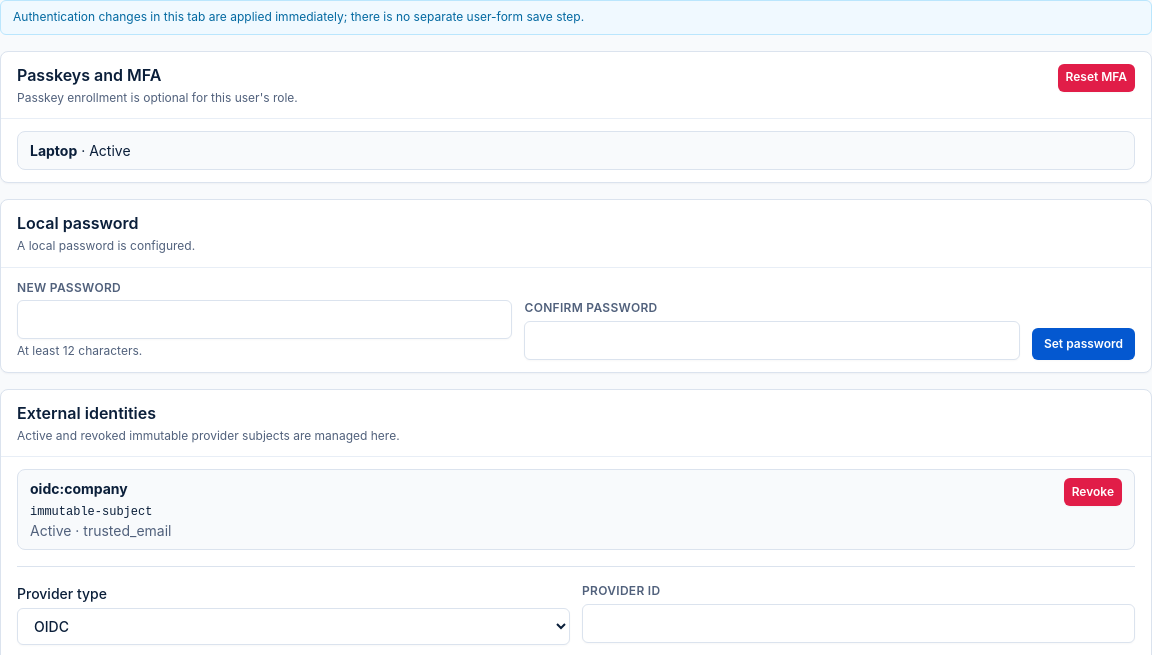
Test: UserAuthenticationPanel › keeps the action pending and retries it once after recent passkey verification
The width and height of the screenshot is (1152, 655).
Step 1. Click the button "Reset MFA" → [1096, 78], box [1058, 64, 1135, 92]
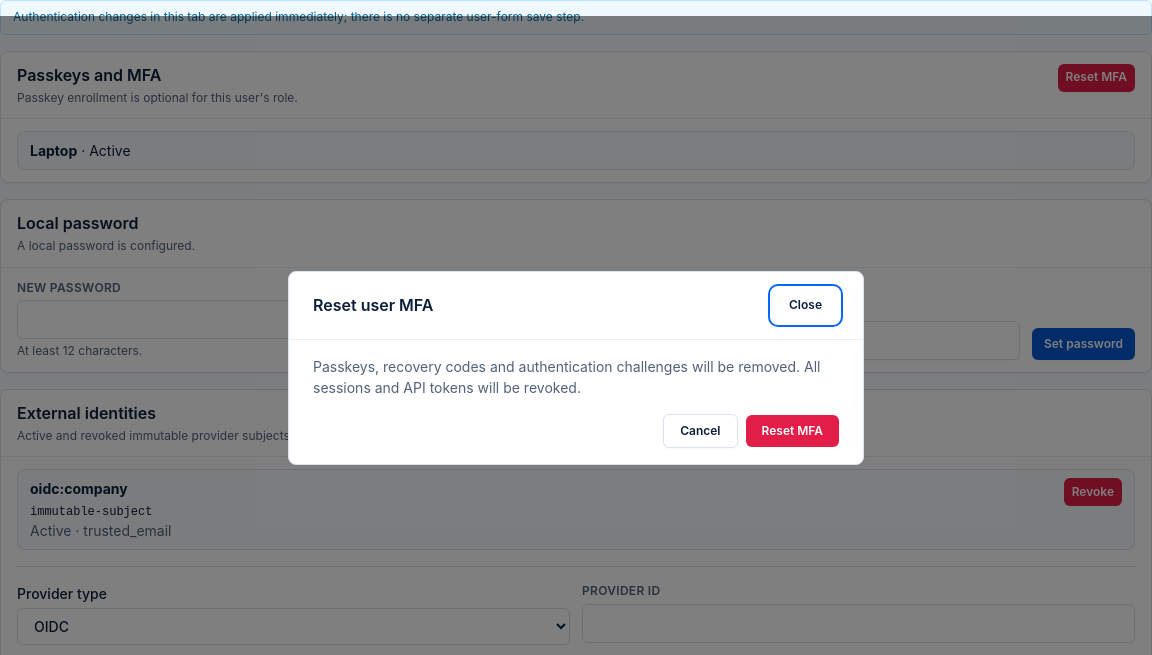
Step 2. Click the button "Reset MFA" → [792, 431], box [746, 414, 839, 447]
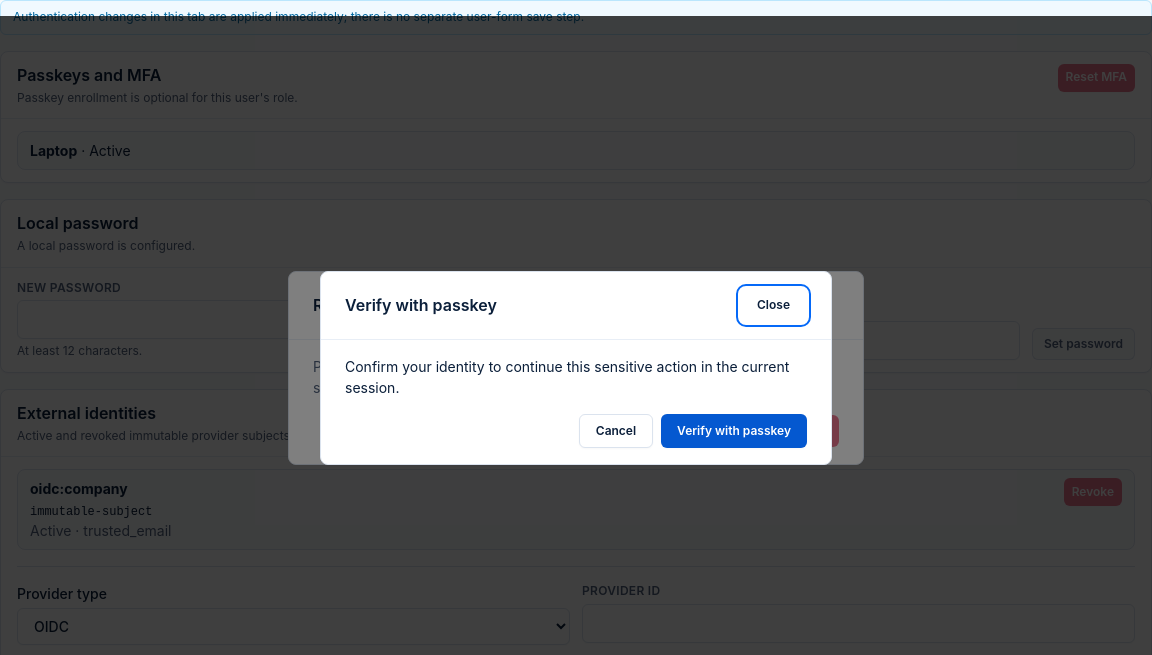
Step 3. Click the button "Verify with passkey" → [734, 431], box [661, 414, 807, 448]
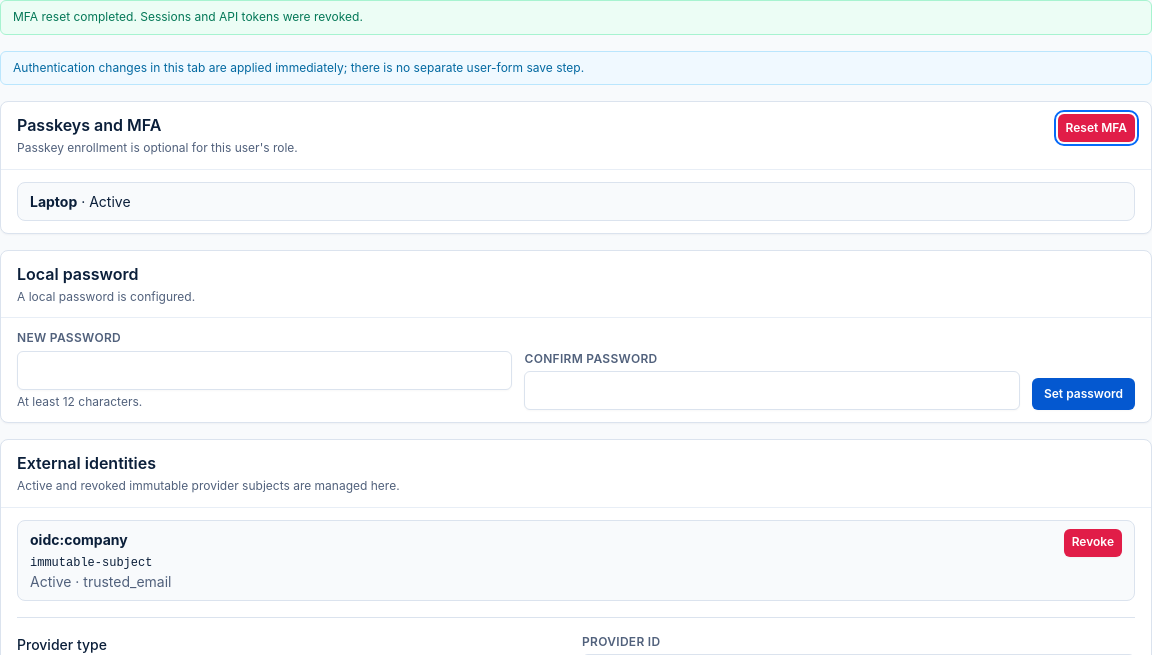
Expected: the text "MFA reset completed. Sessions and API tokens were revoked." is shown, [0, 0, 1151, 34]
